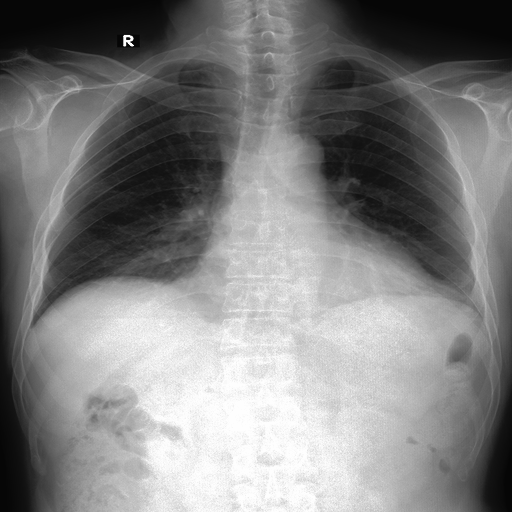Calcification: (163, 56, 225, 65)
Nodule/Mass: (182, 250, 430, 323)
